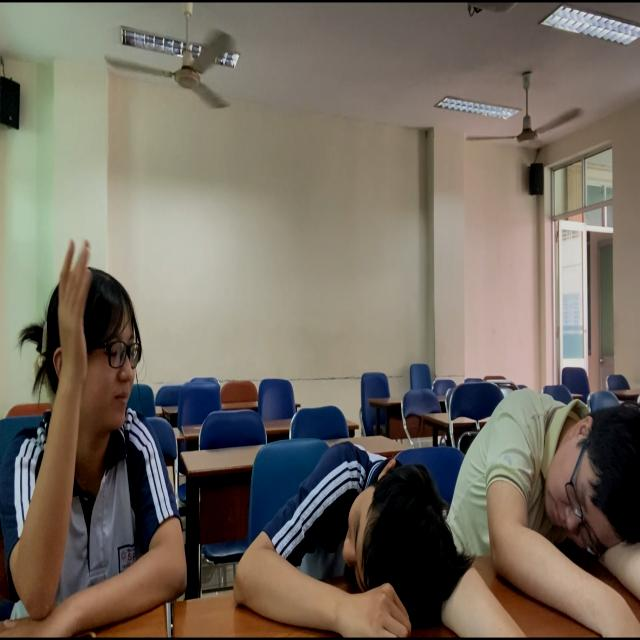raise_hand: (1, 235, 179, 640)
sleep: (461, 366, 640, 608), (246, 432, 455, 634)
